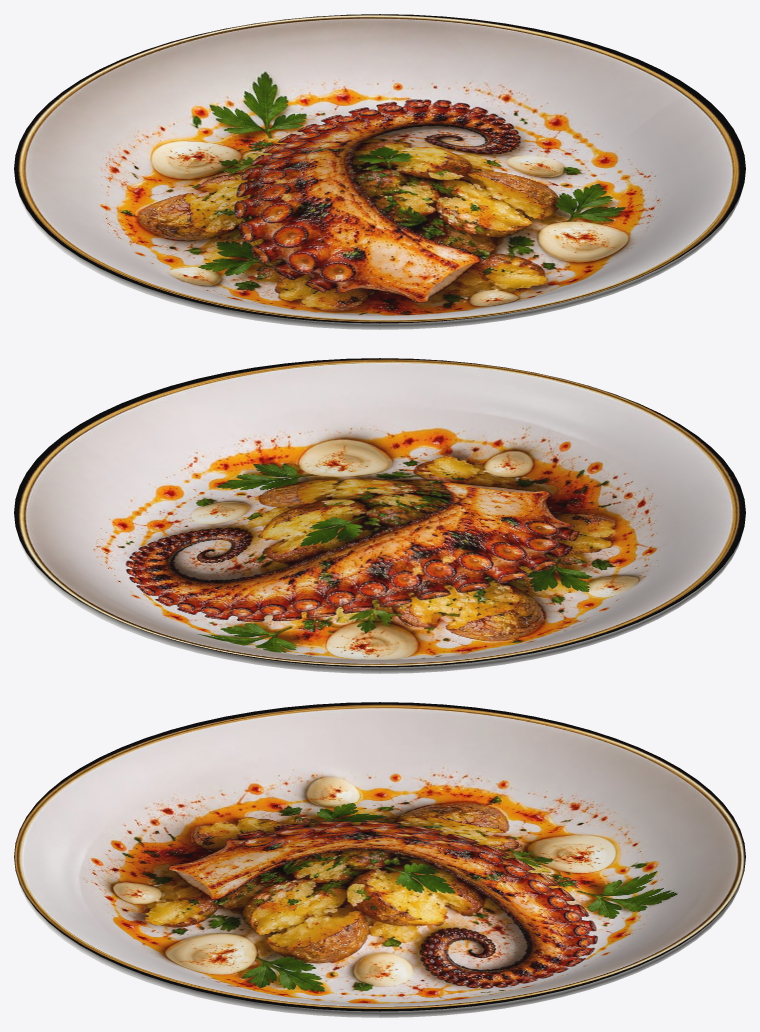
The model's file is polvo.glb.
3 views of the same model, one above another, from view 1: azimuth 30°, elevation 25°; view 2: azimuth 150°, elevation 25°; view 3: azimuth 270°, elevation 25° (orthographic).
Visible parts, largest first — view 1: dish; view 2: dish; view 3: dish.
Part boxes in pixels (x1,y1,x2,y2): dish: (14,14,745,329); dish: (14,358,745,673); dish: (14,702,745,1017).
Size of the model in its own units: 0.28 by 0.025 by 0.28.
2 materials, 1 textured.
